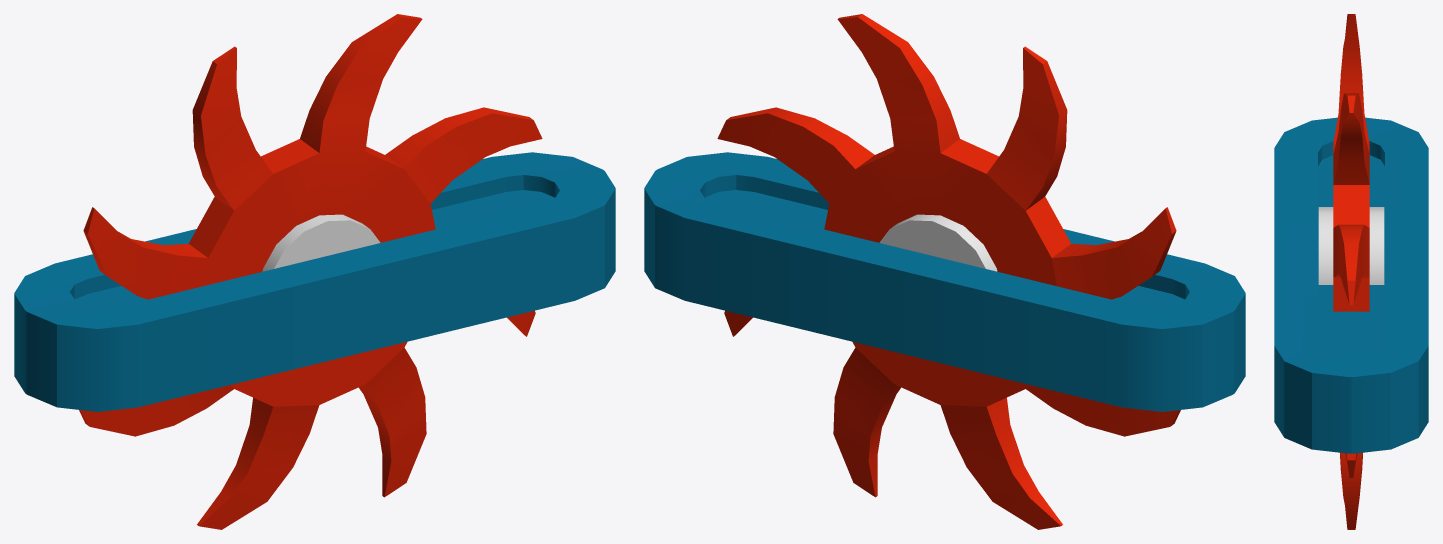
Rendered from Obs_9.fbx.
The picture shows the model from 3 angles, left to right: view 1: azimuth 30°, elevation 25°; view 2: azimuth 150°, elevation 25°; view 3: azimuth 270°, elevation 25°; orthographic projection. The views are drawn at different scales.
Visible parts, largest first — view 1: Obs_9; view 2: Obs_9; view 3: Obs_9.
Boxes of the visible parts, x1,y1,x2,y2 form: Obs_9: (14,14,615,529); Obs_9: (644,14,1245,529); Obs_9: (1274,14,1428,529).
Bounding box in the file's own units: 1.3 × 1.04 × 0.3252.
